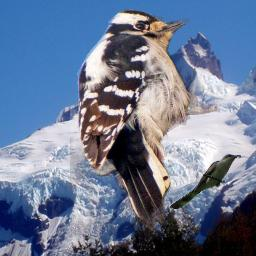Cuckoo: (169, 153, 241, 209)
Woodpecker: (70, 6, 220, 231)
